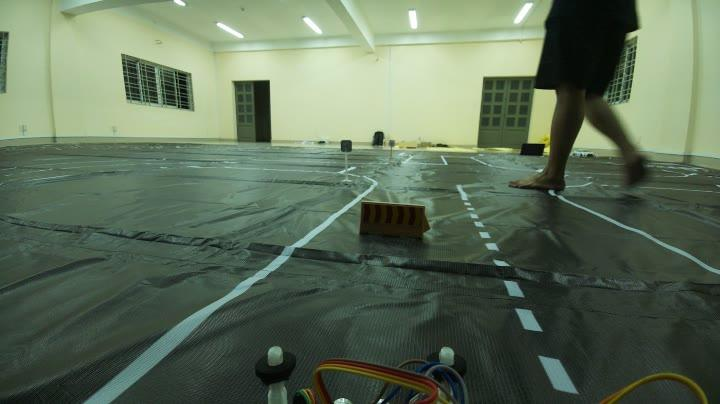roadblock: (347, 194, 444, 255)
